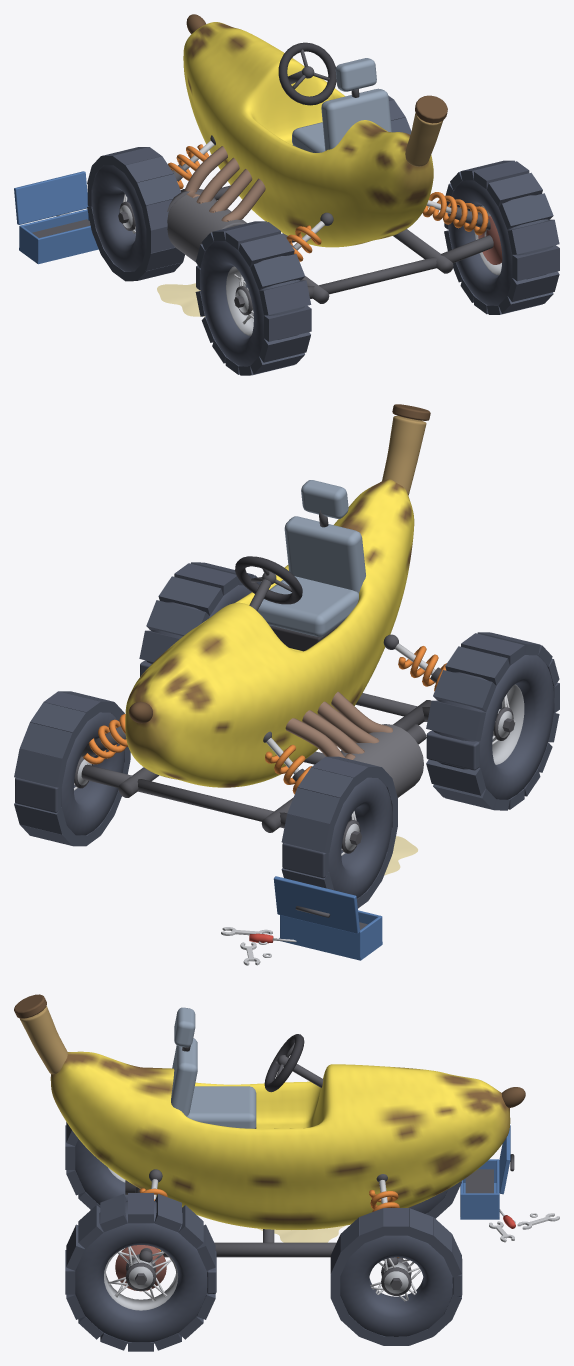
File: banana-kart.glb
3 views of the same model, one above another, from view 1: azimuth 30°, elevation 25°; view 2: azimuth 150°, elevation 25°; view 3: azimuth 270°, elevation 25° (orthographic). The views are drawn at different scales.
Parts seen in each view (by area): view 1: Banana_Shell, Tire_RL, Tire_RR, Tire_FL, Toolbox_Lid, Muffler_Body, Seat_Back, Steering_Wheel, Toolbox_Wall_F, Cross_Rear, Shock_Coil_RR, Tread_RL_07 (+35 smaller); view 2: Banana_Shell, Tire_RL, Tire_FL, Seat_Back, Tire_FR, Seat_Cushion, Toolbox_Lid, Muffler_Body, Stem_Stalk, Toolbox_Wall_B, Cross_Front, Tread_RL_01 (+35 smaller); view 3: Banana_Shell, Tire_RR, Tire_FR, Seat_Cushion, Rail_R, Tire_RL, Stem_Stalk, Seat_Back, Steering_Wheel, Rim_RR, Toolbox_Wall_R, Goo_Puddle (+19 smaller).
Part boxes in pixels (x1,y1,x2,y2): Banana_Shell: [183, 22, 433, 247]; Tire_RL: [200, 241, 304, 366]; Tire_RR: [448, 180, 552, 305]; Tire_FL: [92, 165, 146, 271]; Toolbox_Lid: [14, 171, 88, 224]; Muffler_Body: [167, 192, 246, 261]; Seat_Back: [321, 88, 391, 150]; Steering_Wheel: [278, 42, 336, 105]; Toolbox_Wall_F: [37, 225, 97, 262]; Cross_Rear: [319, 257, 436, 294]; Shock_Coil_RR: [422, 192, 488, 235]; Tread_RL_07: [259, 280, 311, 315]; Banana_Shell: [125, 479, 414, 787]; Tire_RL: [432, 655, 554, 799]; Tire_FL: [328, 777, 392, 898]; Seat_Back: [284, 516, 365, 593]; Tire_FR: [61, 712, 124, 835]; Seat_Cushion: [257, 576, 358, 636]; Toolbox_Lid: [273, 876, 359, 933]; Muffler_Body: [340, 724, 423, 797]; Stem_Stalk: [382, 416, 426, 495]; Toolbox_Wall_B: [280, 915, 361, 958]; Cross_Front: [137, 779, 273, 821]; Tread_RL_01: [426, 700, 485, 740]; Banana_Shell: [50, 1051, 510, 1229]; Tire_RR: [75, 1200, 208, 1343]; Tire_FR: [340, 1235, 452, 1336]; Seat_Cushion: [187, 1086, 256, 1128]; Rail_R: [161, 1242, 336, 1257]; Tire_RL: [75, 1139, 127, 1204]; Stem_Stalk: [19, 1006, 67, 1074]; Seat_Back: [171, 1038, 197, 1116]; Steering_Wheel: [264, 1034, 304, 1092]; Rim_RR: [104, 1246, 177, 1310]; Toolbox_Wall_R: [461, 1193, 499, 1218]; Goo_Puddle: [258, 1225, 345, 1242].
Size of the model in its own units: 1.58 by 1.24 by 2.19.
